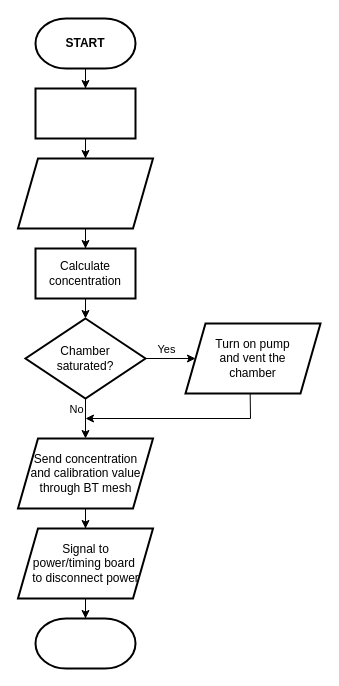
This 339x686 diagram has some shape labels left out. The shapes that lost their labels are listed below. From the top down, each one's centre as x and y in pixels, then its label:
At [85,113]: "Wait for methane sensor to stabilise".
At [85,193]: "Measure methane level and calibration value".
At [85,643]: "STOP".
